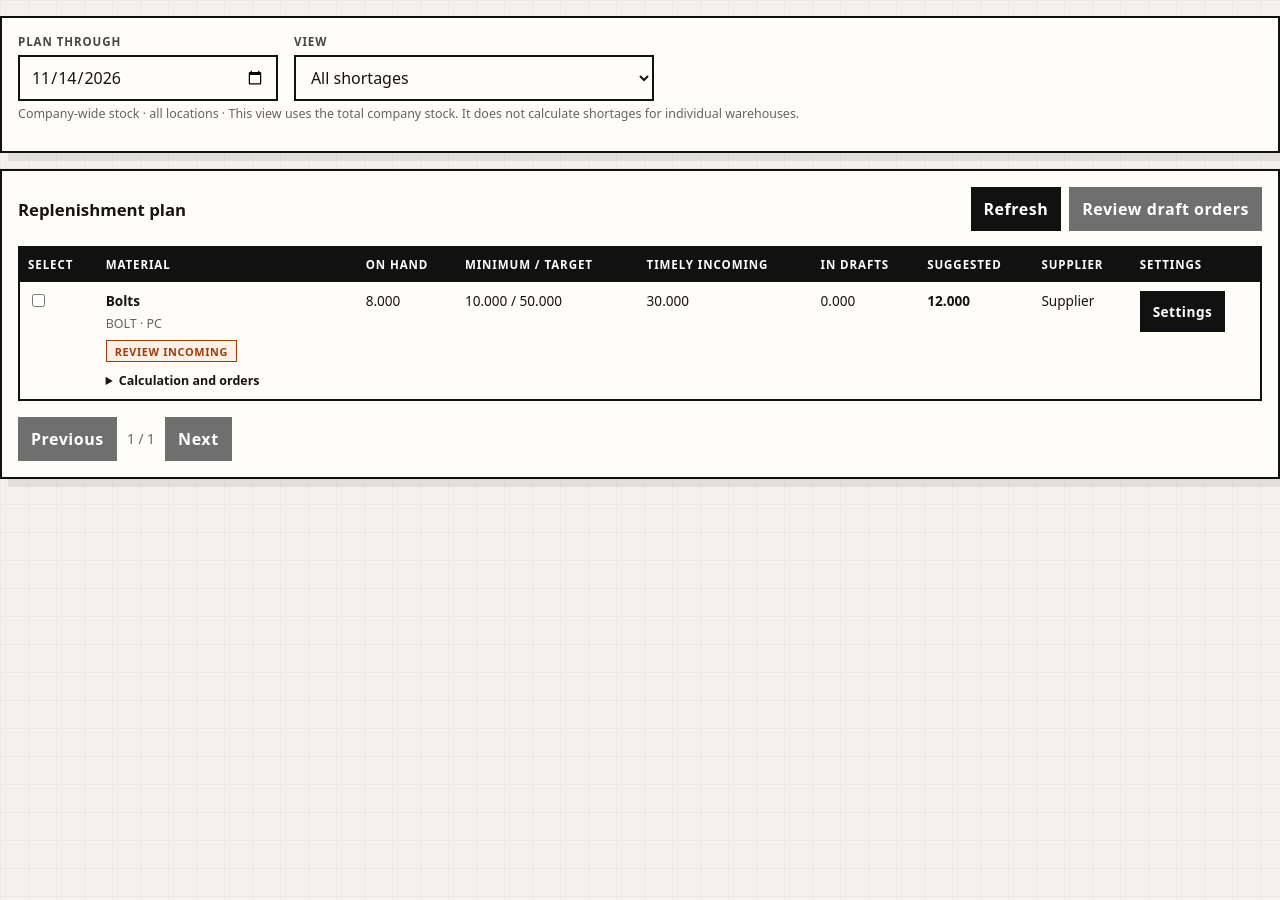
replenishment screen › requires acknowledgment for uncertain orders
Expected: the text "Bolts" is shown, [106,291,140,310]
Click the checkbox named "Select BOLT". click: [38, 301]
box: [32,294,45,307]
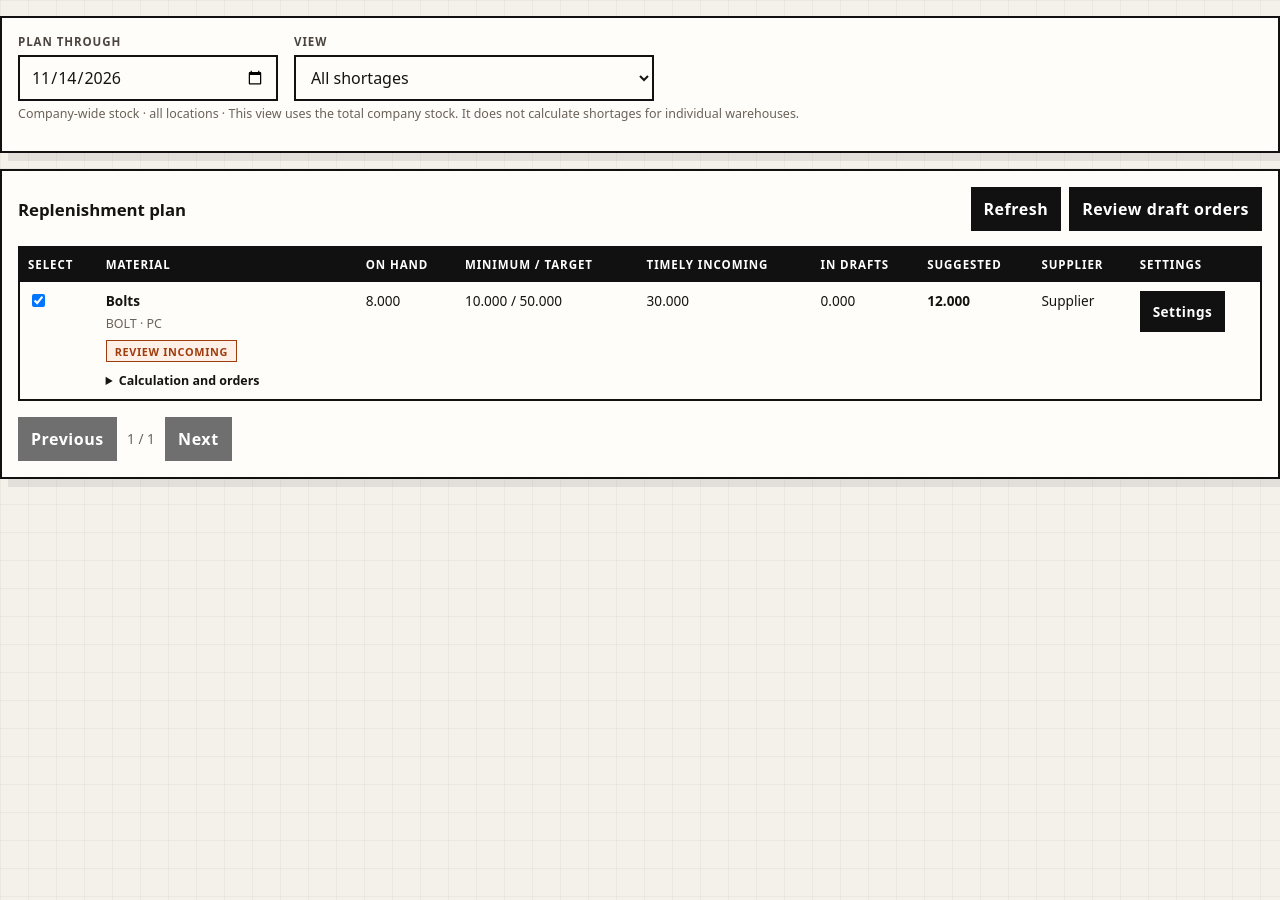
Click the button "Review draft orders". click: [1166, 209]
box: [1069,187,1262,231]
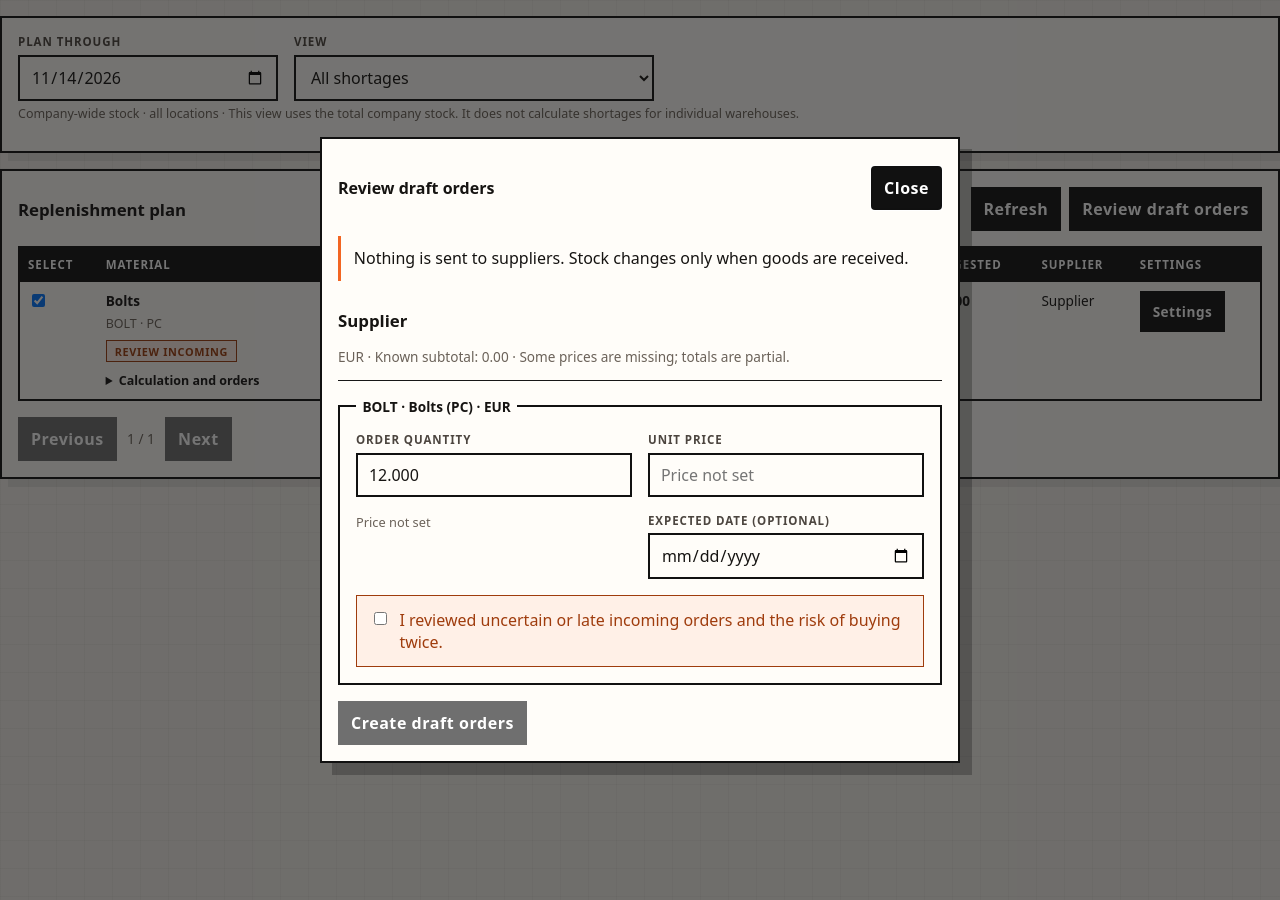
Result: the button "Create draft orders" is disabled at [338,701,527,745]
